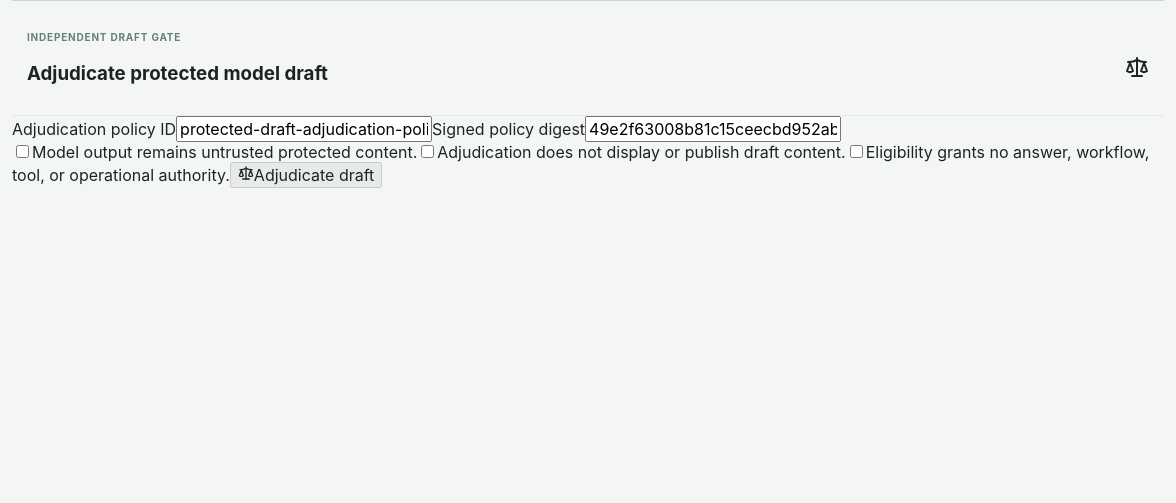
Test: ProtectedDraftAdjudicationPanel › adjudicates only by policy and renders a minimized manifest
The image size is (1176, 503).
Expected: the button "Adjudicate draft" is disabled, [230, 162, 382, 188]
Click the checkbox labelled "Model output remains untrusted protected content.": (22, 152) [16, 145, 29, 158]
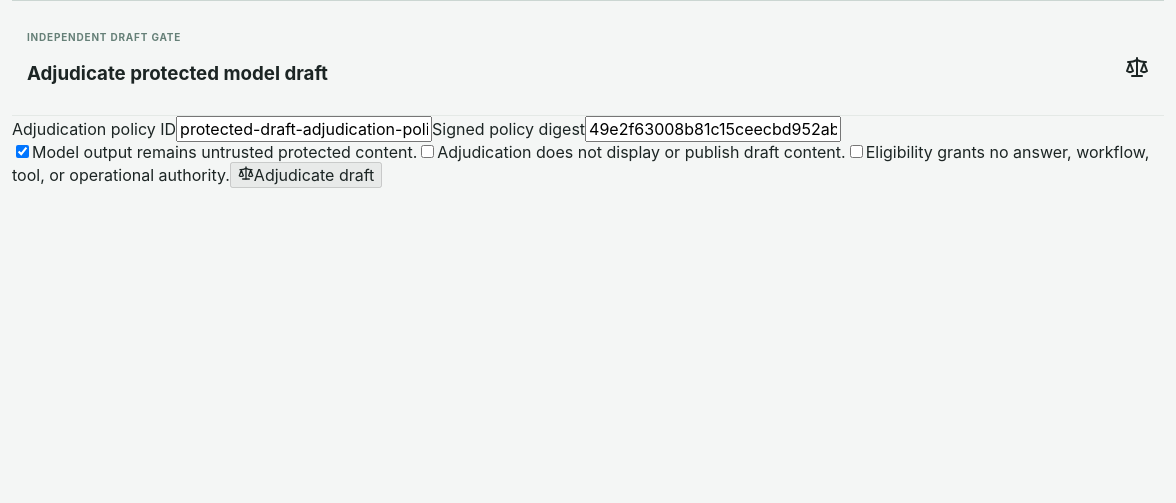
Click the checkbox labelled "Adjudication does not display or publish draft content.": (428, 152) [421, 145, 434, 158]
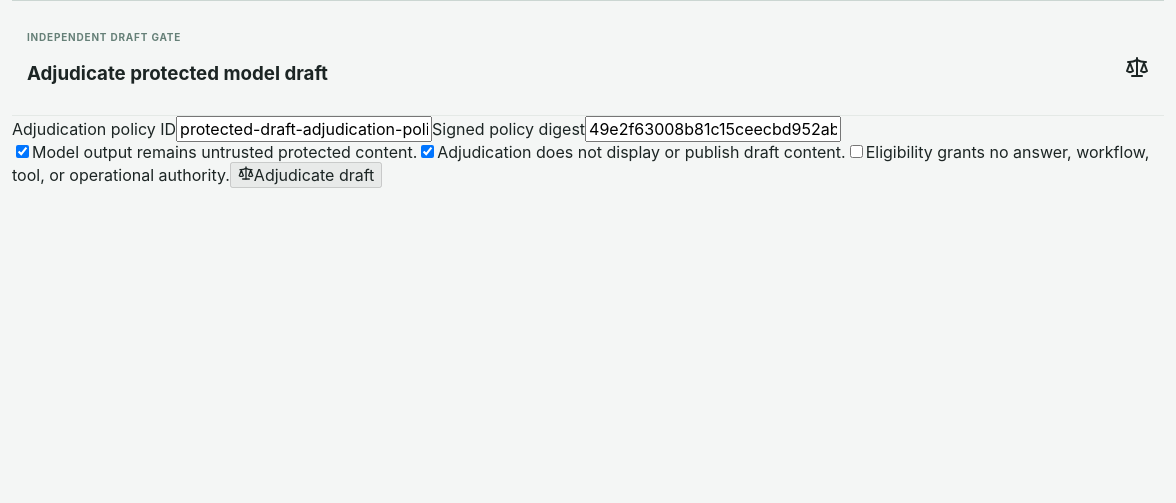
Click the checkbox labelled "Eligibility grants no answer, workflow, tool, or operational authority.": (856, 152) [850, 145, 863, 158]
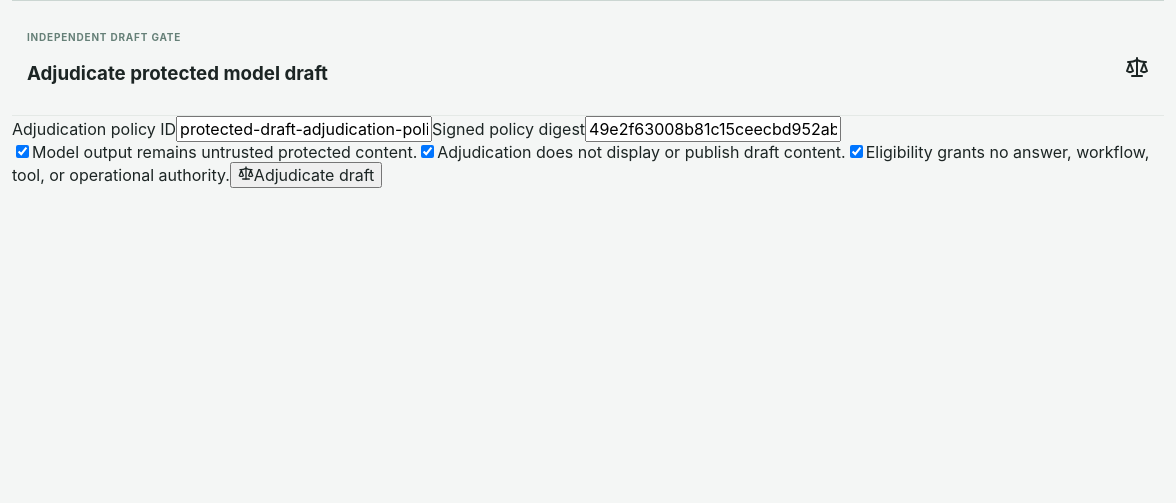
Now the button "Adjudicate draft" is enabled
Click the button "Adjudicate draft": (306, 175) [230, 162, 382, 188]
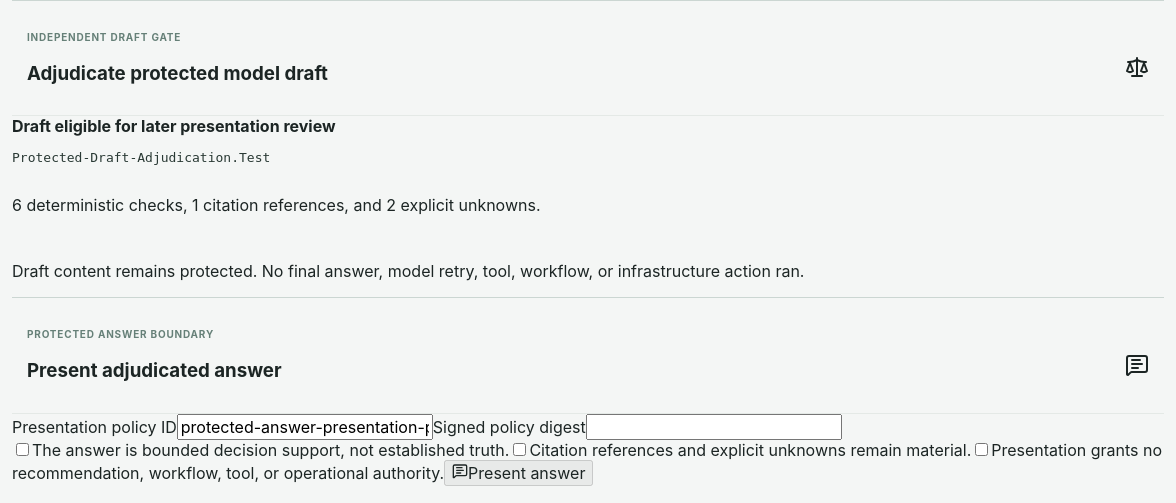
Now the text "Draft eligible for later presentation review" is shown, box [12, 116, 336, 136]
Now the text "Draft content remains protected" is shown, box [12, 261, 804, 281]
